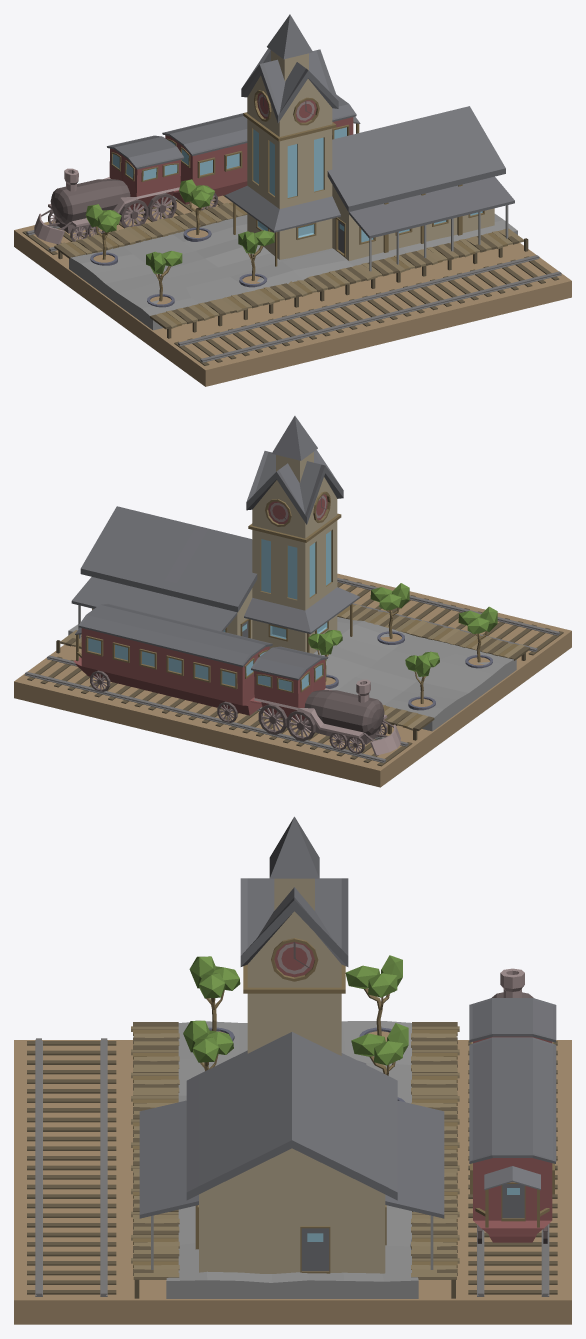
Rendered from Train_station_WLP_series_13.glb.
3 renders of one model, top to bottom at view 1: azimuth 30°, elevation 25°; view 2: azimuth 150°, elevation 25°; view 3: azimuth 270°, elevation 25°, orthographic. The views are drawn at different scales.
Parts seen in each view (by area): view 1: Plane.013_wlp13_0; view 2: Plane.013_wlp13_0; view 3: Plane.013_wlp13_0.
Boxes of the visible parts, x1,y1,x2,y2 form: Plane.013_wlp13_0: (14, 14, 571, 386); Plane.013_wlp13_0: (14, 416, 571, 787); Plane.013_wlp13_0: (14, 816, 571, 1324).
Bounding box in the file's own units: 3026 × 2038 × 2739.
1 material, 1 textured.
